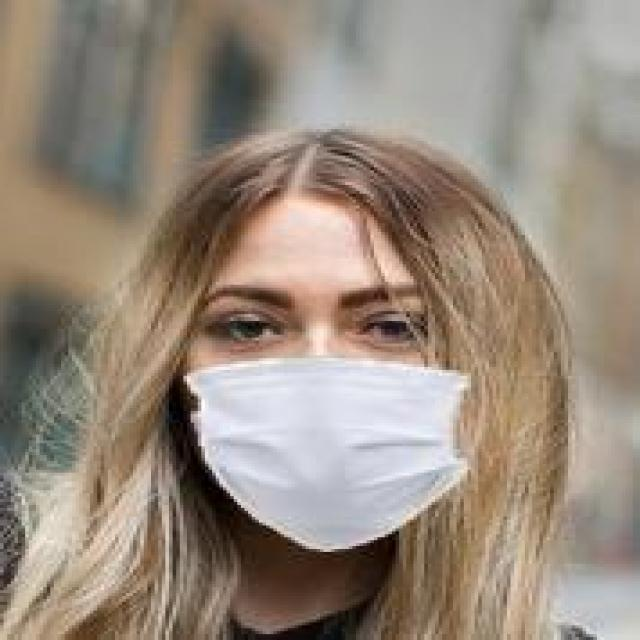mask: (104, 91, 546, 564)
